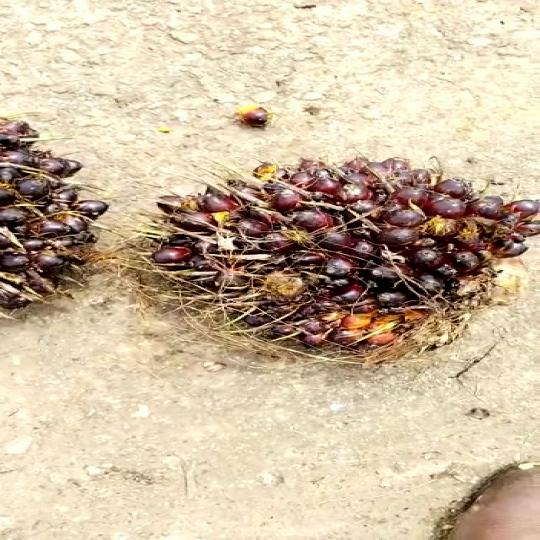kurang masak: (148, 157, 540, 352)
